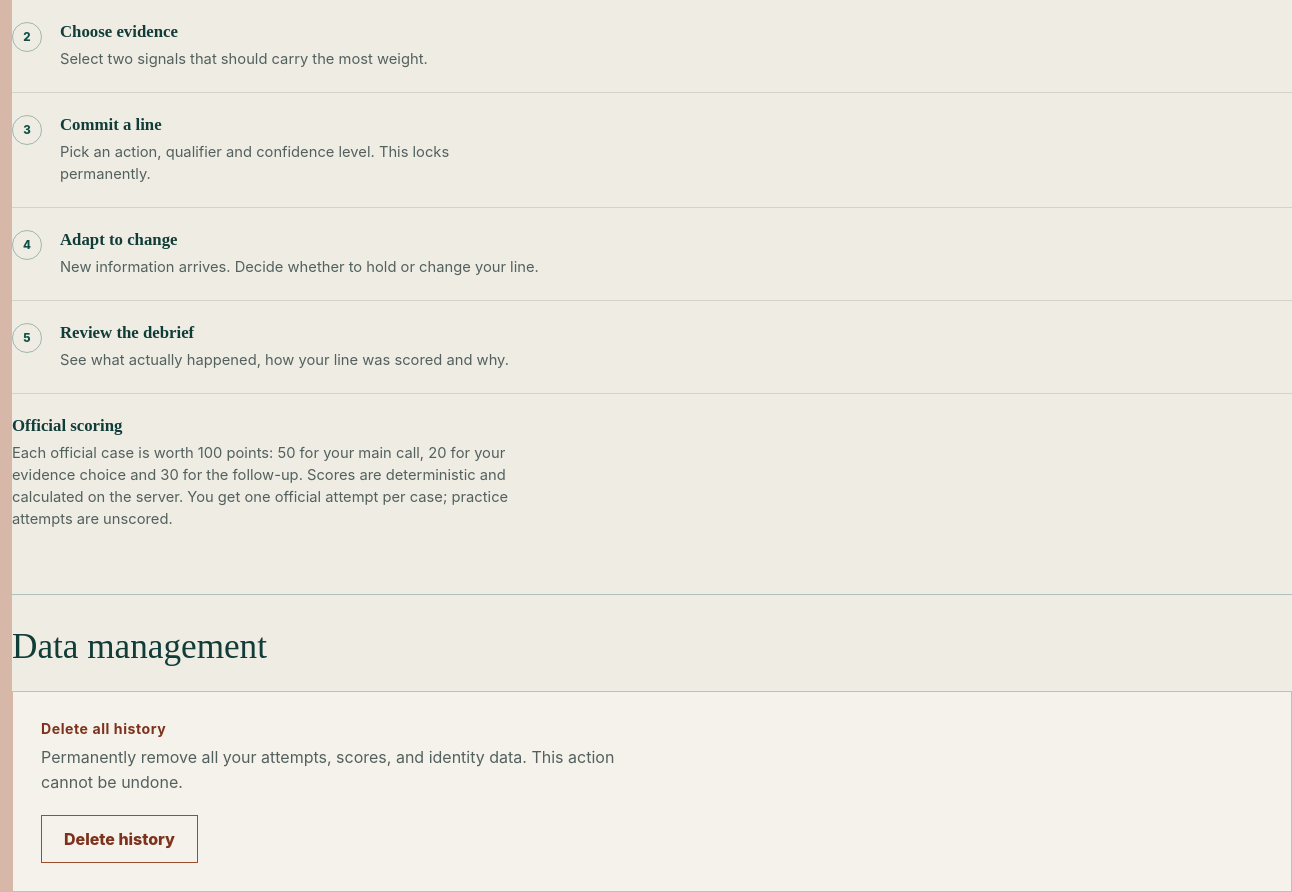
Test: SettingsPage › shows error state and retry when deletion fails
(page scrolled)
Click the button "Delete history" at (120, 839), box [41, 815, 198, 863]
(page scrolled)
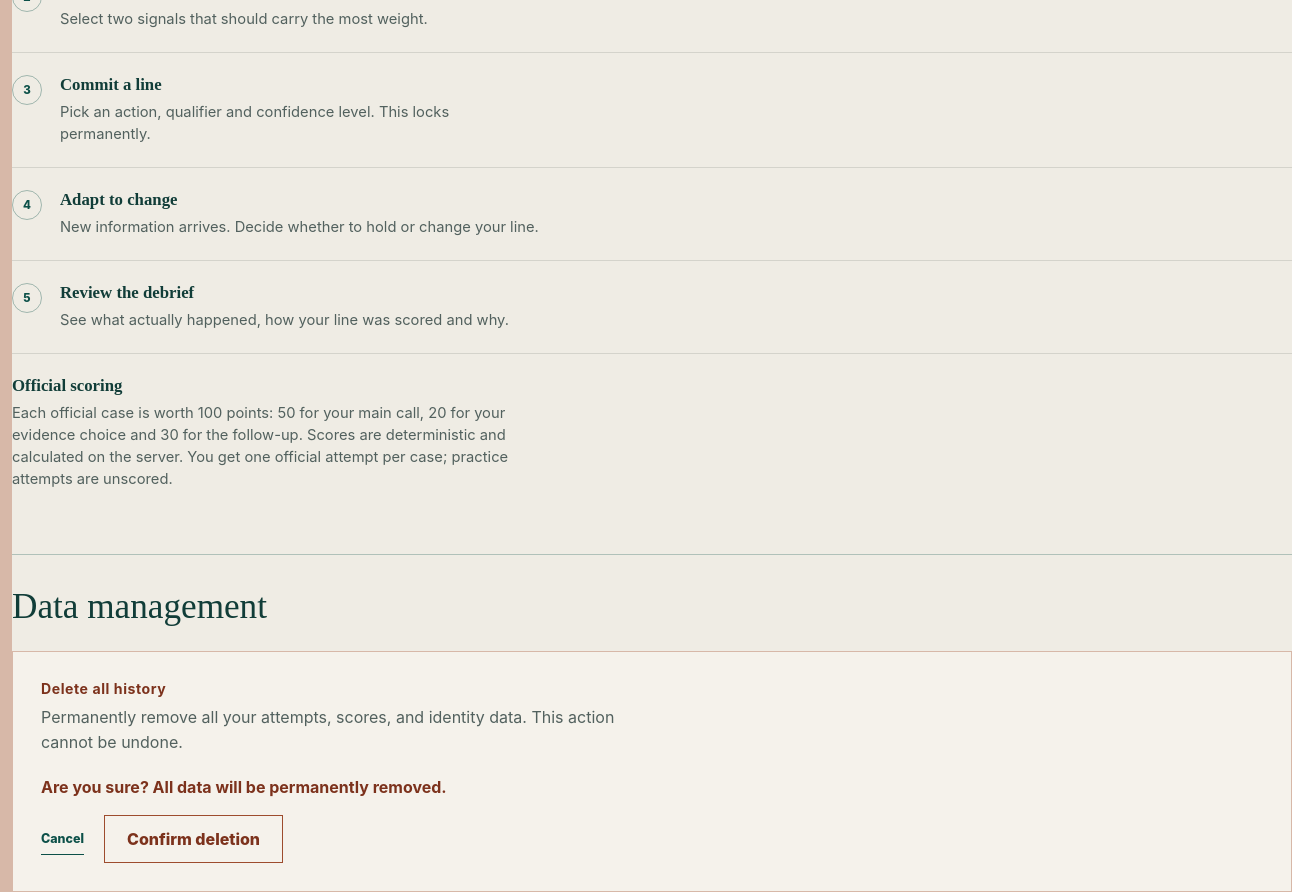
Click the button "Confirm deletion" at (194, 839), box [104, 815, 283, 863]
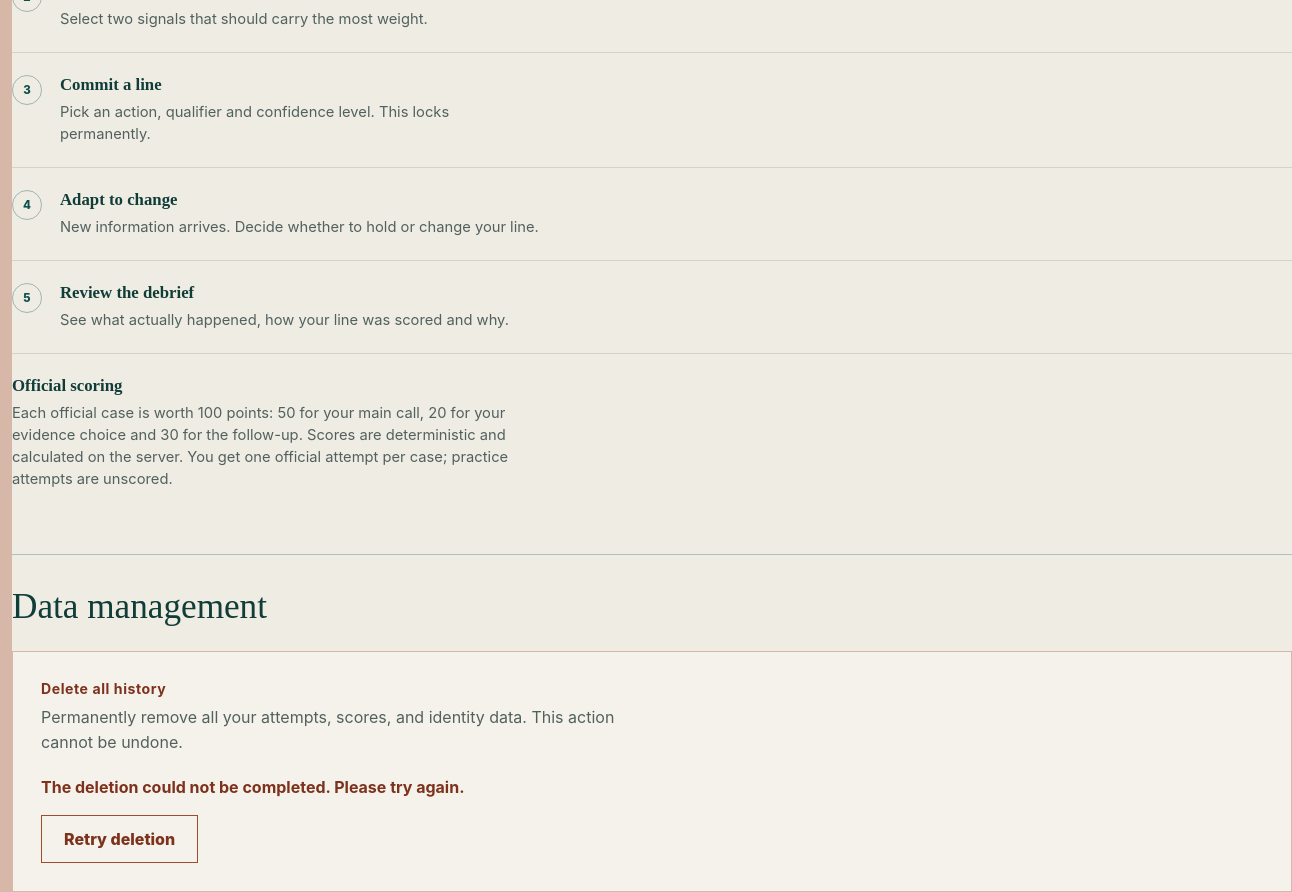
Result: the text "The deletion could not be completed. Please try again." is shown at [41, 777, 464, 797]
Result: the button "Retry deletion" is shown at [41, 815, 198, 863]
